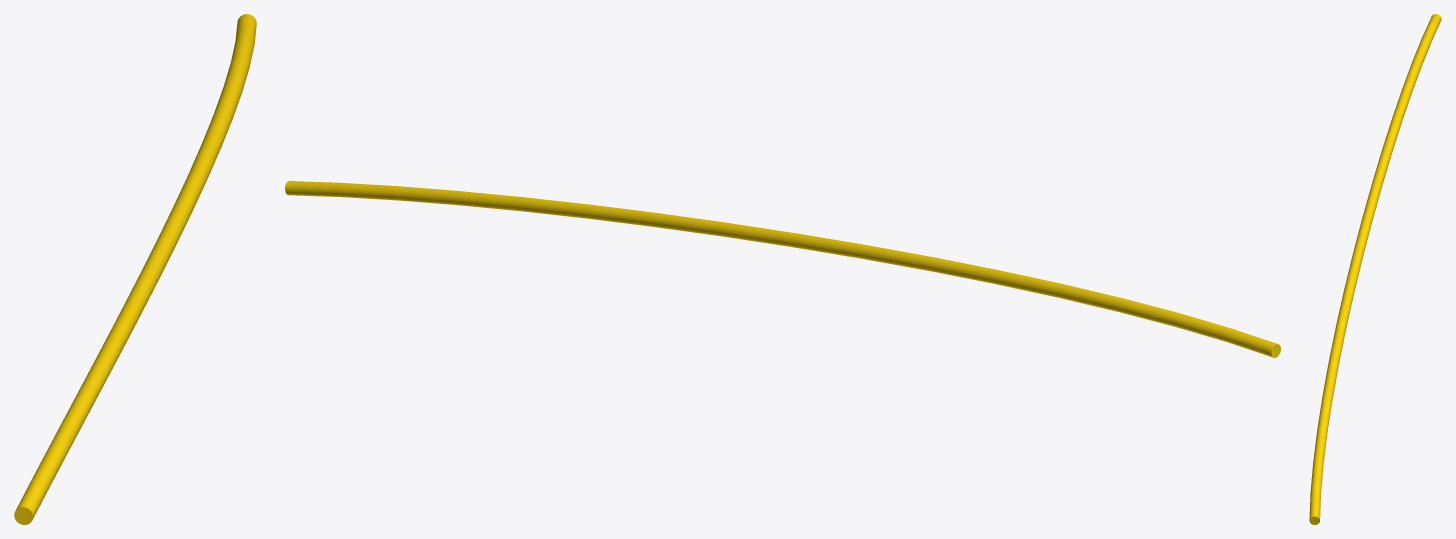
The model's file is Event_421278790_track_42.fbx.
3 views of the same model, side by side, from view 1: azimuth 90°, elevation 25°; view 2: azimuth 150°, elevation 25°; view 3: azimuth 270°, elevation 25° (orthographic). The views are drawn at different scales.
Visible parts, largest first — view 1: Model; view 2: Model; view 3: Model.
Boxes of the visible parts, x1,y1,x2,y2 form: Model: [14, 14, 256, 524]; Model: [285, 181, 1280, 357]; Model: [1309, 14, 1441, 524].
Bounding box in the file's own units: 3.45 × 0.5259 × 0.4984.
